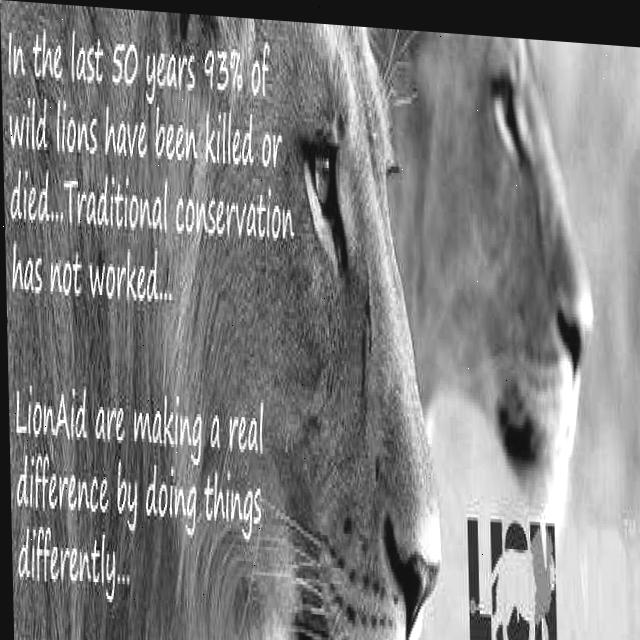Lion: (246, 18, 456, 640)
